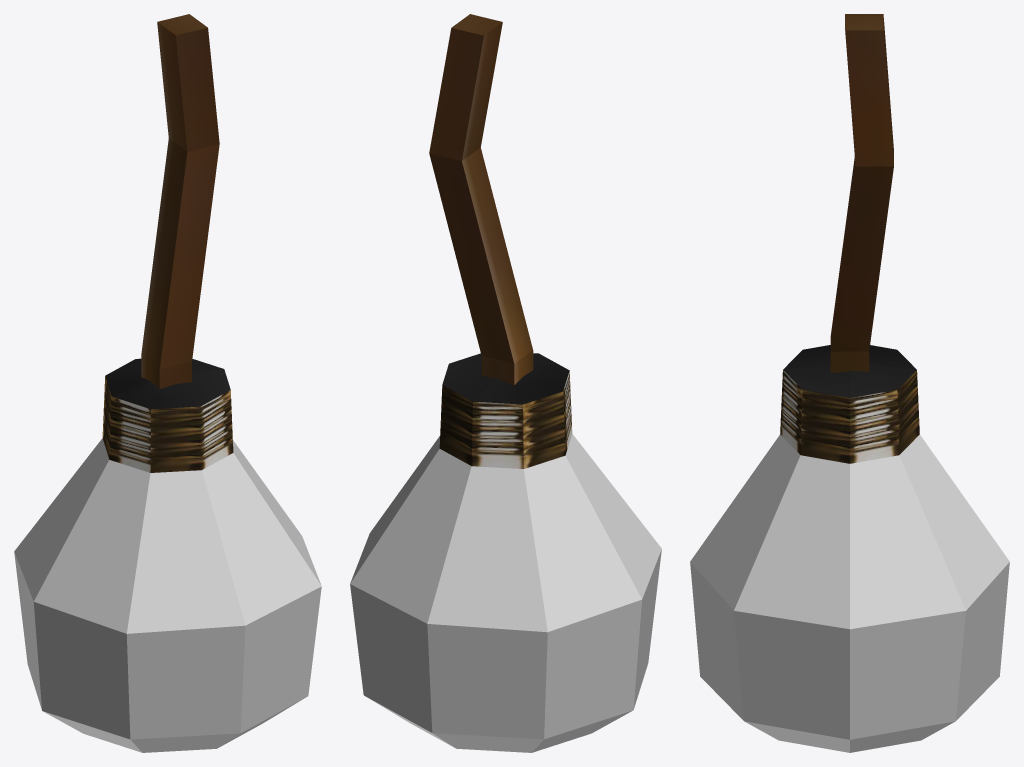
The model's file is LightBulb.fbx.
3 views of the same model, side by side, from view 1: azimuth 30°, elevation 25°; view 2: azimuth 150°, elevation 25°; view 3: azimuth 270°, elevation 25° (orthographic). The views are drawn at different scales.
Visible parts, largest first — view 1: roof_light; view 2: roof_light; view 3: roof_light.
Boxes of the visible parts, x1,y1,x2,y2 form: roof_light: (14,14,321,752); roof_light: (350,14,661,752); roof_light: (690,14,1009,752).
Size of the model in its own units: 0.3441 by 0.3441 by 0.8523.
